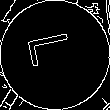L_E: (27, 35, 83, 75)
